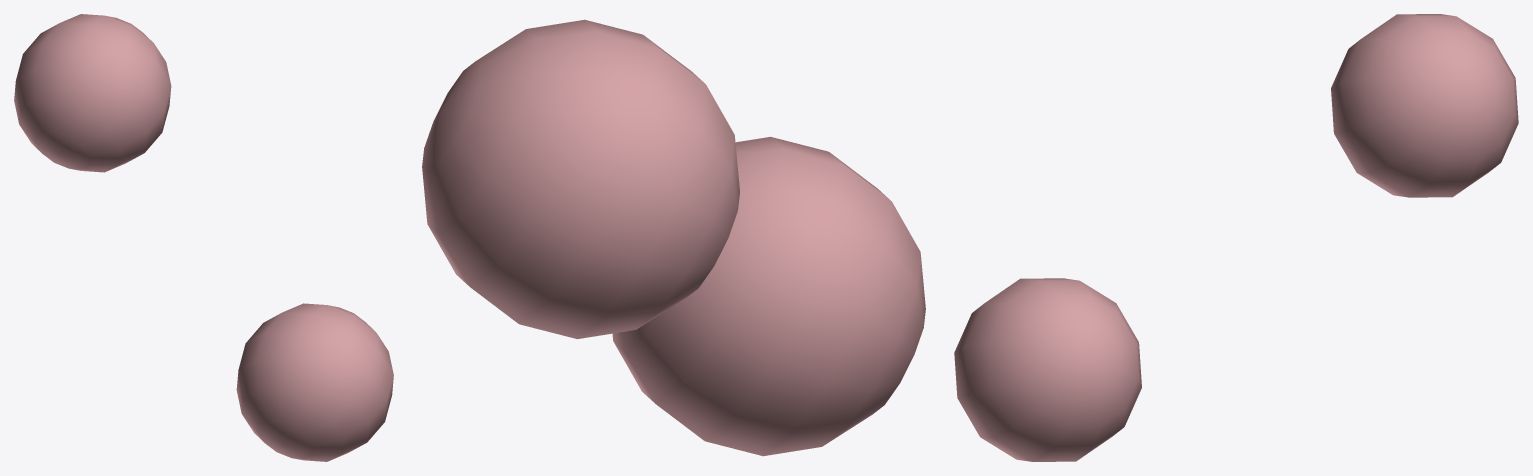
3 renders of one model, left to right at view 1: azimuth 30°, elevation 25°; view 2: azimuth 150°, elevation 25°; view 3: azimuth 270°, elevation 25°, orthographic. The views are drawn at different scales.
Visible parts, largest first — view 1: ZA_8856cc5afe0d9b46; view 2: ZA_8856cc5afe0d9b46; view 3: ZA_8856cc5afe0d9b46.
Boxes of the visible parts, x1,y1,x2,y2 form: ZA_8856cc5afe0d9b46: [14, 14, 393, 461]; ZA_8856cc5afe0d9b46: [422, 19, 925, 456]; ZA_8856cc5afe0d9b46: [954, 14, 1518, 461].
Bounding box in the file's own units: 0.00381 × 0.00598 × 0.00767.
